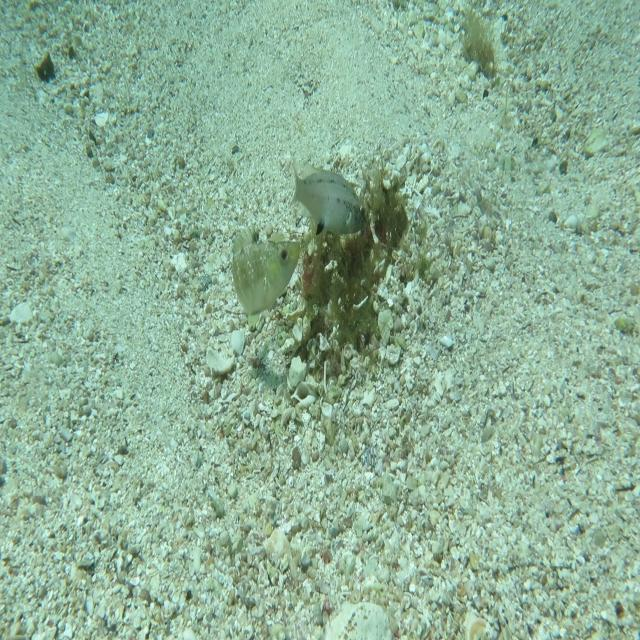BEND: (228, 223, 299, 321)
female: (288, 157, 365, 236)
nest: (294, 155, 418, 376)
